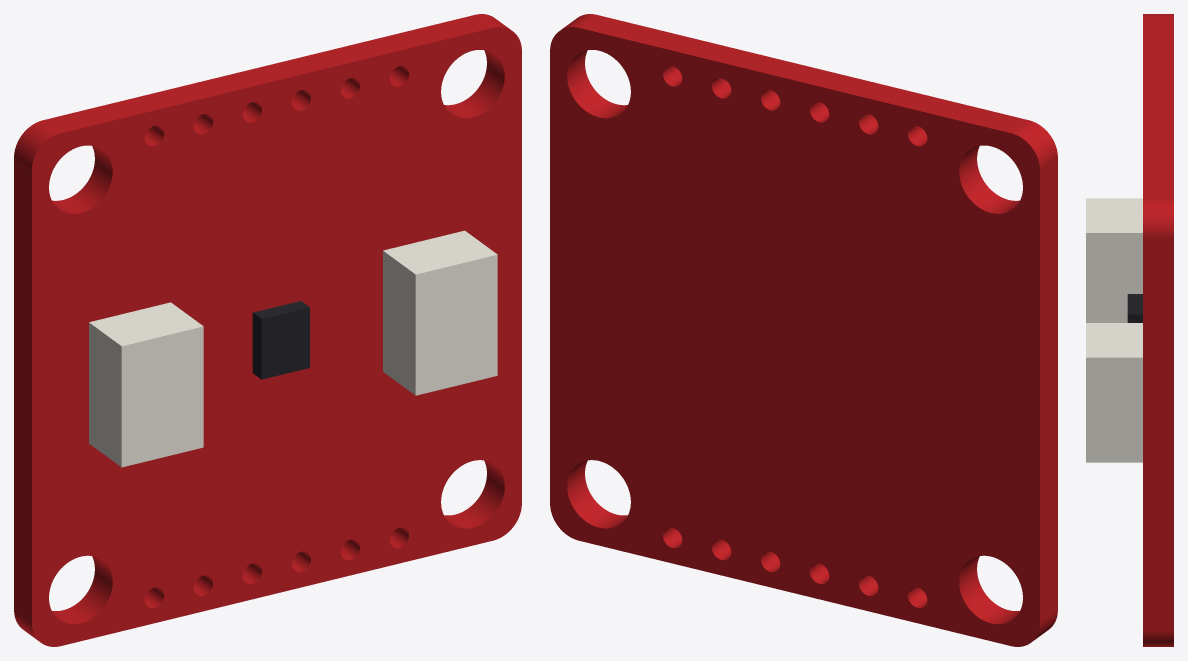
Rendered from assembly.glb.
The picture shows the model from 3 angles, left to right: view 1: azimuth 30°, elevation 25°; view 2: azimuth 150°, elevation 25°; view 3: azimuth 270°, elevation 25°; orthographic projection. The views are drawn at different scales.
Parts seen in each view (by area): view 1: sparkfun-bmi270-qwiic-1x1/pcb, sparkfun-bmi270-qwiic-1x1/qwiic-left, sparkfun-bmi270-qwiic-1x1/qwiic-right, sparkfun-bmi270-qwiic-1x1/bmi270-ic; view 2: sparkfun-bmi270-qwiic-1x1/pcb; view 3: sparkfun-bmi270-qwiic-1x1/pcb, sparkfun-bmi270-qwiic-1x1/qwiic-right, sparkfun-bmi270-qwiic-1x1/qwiic-left, sparkfun-bmi270-qwiic-1x1/bmi270-ic.
Boxes of the visible parts, x1=… form: sparkfun-bmi270-qwiic-1x1/pcb: x1=14, y1=14, x2=521, y2=646; sparkfun-bmi270-qwiic-1x1/qwiic-left: x1=89, y1=302, x2=203, y2=467; sparkfun-bmi270-qwiic-1x1/qwiic-right: x1=383, y1=230, x2=497, y2=395; sparkfun-bmi270-qwiic-1x1/bmi270-ic: x1=252, y1=301, x2=309, y2=379; sparkfun-bmi270-qwiic-1x1/pcb: x1=550, y1=14, x2=1057, y2=646; sparkfun-bmi270-qwiic-1x1/pcb: x1=1143, y1=14, x2=1173, y2=646; sparkfun-bmi270-qwiic-1x1/qwiic-right: x1=1086, y1=323, x2=1142, y2=462; sparkfun-bmi270-qwiic-1x1/qwiic-left: x1=1086, y1=198, x2=1142, y2=322; sparkfun-bmi270-qwiic-1x1/bmi270-ic: x1=1127, y1=294, x2=1142, y2=322.
Size of the model in its own units: 0.0254 by 0.0254 by 0.00455.
